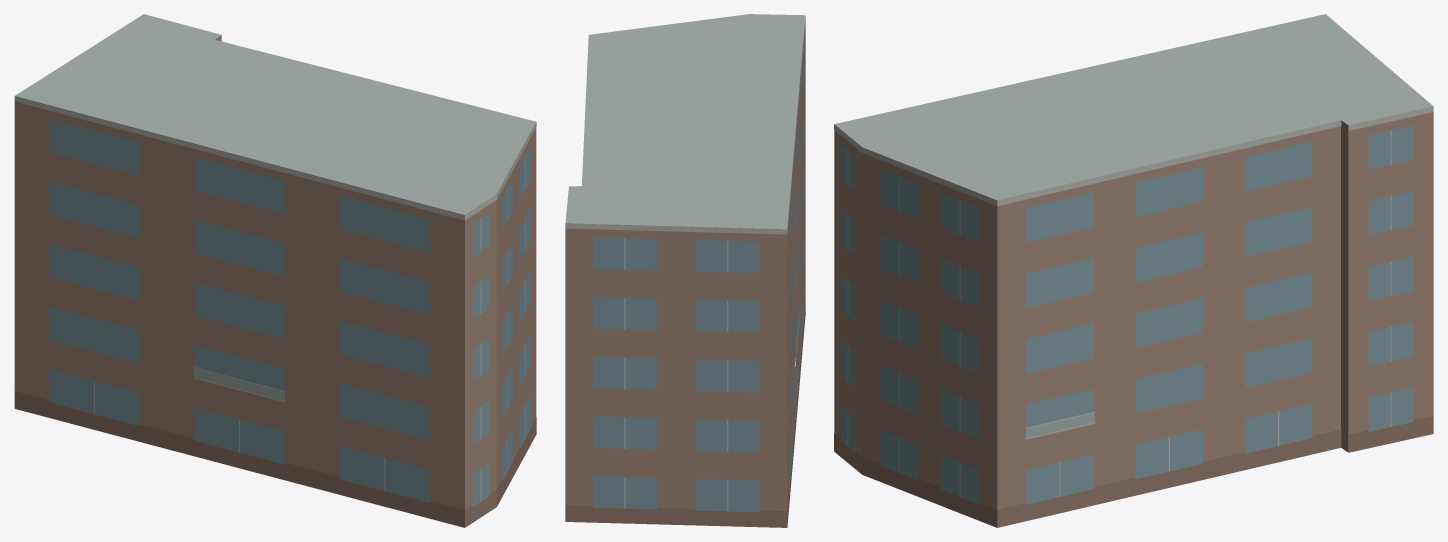
Rendered from survey-upis-32836984.glb.
The picture shows the model from 3 angles, left to right: view 1: azimuth 30°, elevation 25°; view 2: azimuth 150°, elevation 25°; view 3: azimuth 270°, elevation 25°; orthographic projection. The views are drawn at different scales.
Parts seen in each view (by area): view 1: survey-upis-32836984.tmp; view 2: survey-upis-32836984.tmp; view 3: survey-upis-32836984.tmp.
Boxes of the visible parts, x1,y1,x2,y2 form: survey-upis-32836984.tmp: (14, 14, 536, 527); survey-upis-32836984.tmp: (565, 14, 805, 527); survey-upis-32836984.tmp: (834, 14, 1433, 527).
Bounding box in the file's own units: 16.98 × 13.9 × 23.07.
